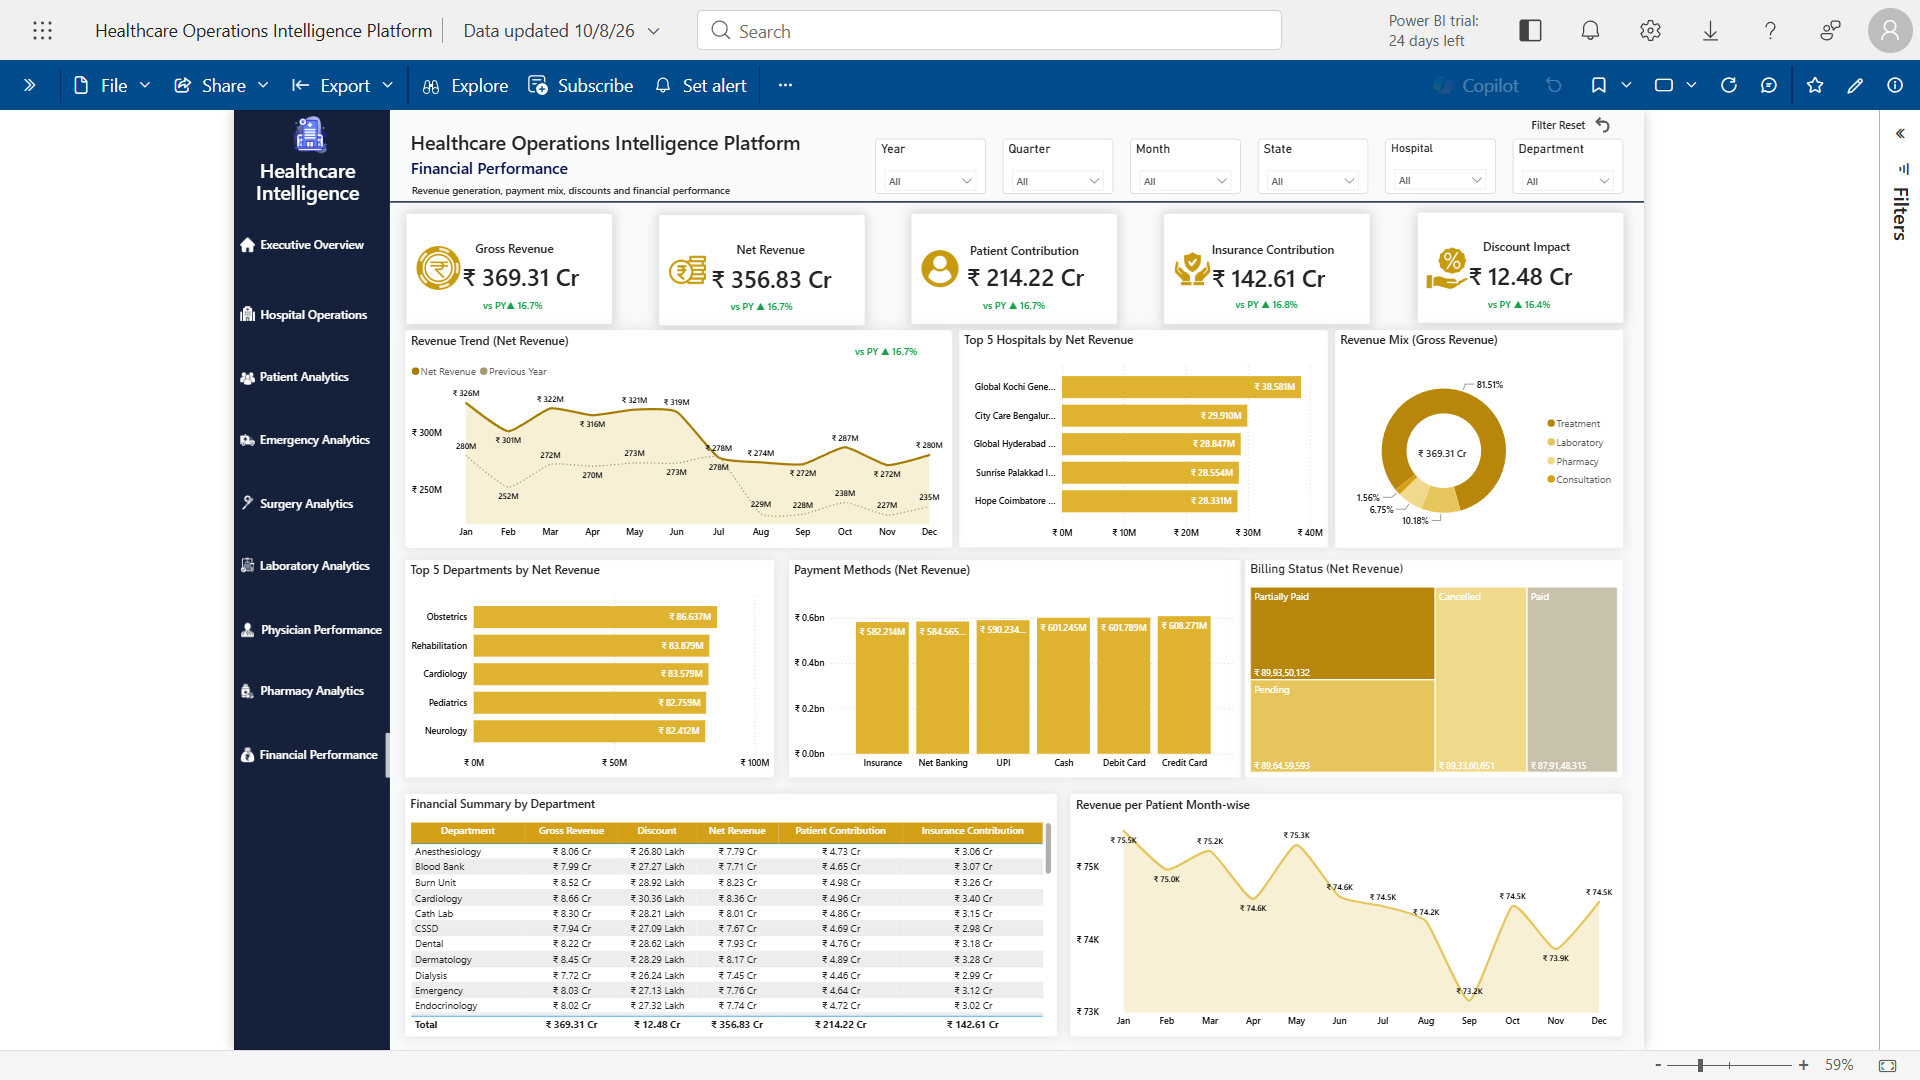

This screenshot's page, from the dashboard's own definition file:
{"tool":"powerbi","page":{"name":"Financial Performance","canvas":[1920,1280],"ordinal":8},"visuals":[{"type":"shape","box":[0,0,212,1280],"z":0},{"type":"textbox","box":[3.3,59.1,200.8,46.2],"z":0,"group":"g1"},{"type":"cardVisual","title":"Total Revenue","fields":{"Data":["_Dax.New_Discount"]},"box":[1611.3,140.2,280.3,150],"z":0,"group":"g4"},{"type":"cardVisual","title":"Total Revenue","fields":{"Data":["_Dax.Patient Contribution"]},"box":[922.9,140.6,280.3,150],"z":0,"group":"g2"},{"type":"cardVisual","title":"Total Revenue","fields":{"Data":["_Dax.New_Gross_Revenue"]},"box":[234.4,140.9,280.3,150],"z":0,"group":"g5"},{"type":"cardVisual","title":"Total Revenue","fields":{"Data":["_Dax.New_Insurance_Coverage"]},"box":[1267.1,141.2,280.3,150],"z":0,"group":"g3"},{"type":"cardVisual","title":"Total Revenue","fields":{"Data":["_Dax.New_Net_Revenue"]},"box":[578.6,142.2,280.3,150],"z":0,"group":"g6"},{"type":"donutChart","title":"Revenue Mix (Gross Revenue)","fields":{"Y":["_Dax.Total Treatment Revenue","_Dax.Total Laboratory Revenue","_Dax.Total Pharmacy Revenue","_Dax.Total Consultation Revenue"]},"box":[1499.2,300,392.3,296.9],"z":0,"group":"g8"},{"type":"lineChart","title":"Revenue Trend (Net Revenue)","fields":{"Category":["Dim_Date.MonthShort"],"Y":["_Dax.Net Amount","_Dax.Net Revenue Previous Year"]},"box":[234,300.3,744.5,296.6],"z":0,"group":"g7"},{"type":"lineChart","title":"Revenue per Patient Month-wise ","fields":{"Category":["Dim_Date.MonthShort"],"Y":["_Dax.Revenue per Patient"]},"box":[1138.5,930.3,751.6,330],"z":0,"group":"g9"},{"type":"actionButton","box":[1847.7,4.6,40,30],"z":1000},{"type":"textbox","box":[5,87.4,190.4,46.2],"z":1000,"group":"g1"},{"type":"image","box":[1280.8,180.5,50,71.5],"z":1000,"group":"g3"},{"type":"image","box":[592.3,181.5,50,71.5],"z":1000,"group":"g6"},{"type":"cardVisual","fields":{"Data":["_Dax.Gross Revenue vs PY"]},"box":[305,235.4,150,56],"z":1000,"group":"g5"},{"type":"cardVisual","fields":{"Data":["_Dax.Patient Contribution vs PY"]},"box":[987.6,235.7,150,56],"z":1000,"group":"g2"},{"type":"cardVisual","fields":{"Data":["_Dax.Discount Impact vs PY"]},"box":[1674.5,236.2,150,56],"z":1000,"group":"g4"},{"type":"cardVisual","fields":{"Data":["_Dax.Net Revenue vs PY"]},"box":[808.7,300.3,159.3,56.5],"z":1000,"group":"g7"},{"type":"cardVisual","fields":{"Data":["_Dax.New_Gross_Revenue"]},"box":[1575.7,438,138.7,56],"z":1000,"group":"g8"},{"type":"textbox","box":[212,20,586,46],"z":2000},{"type":"image","box":[1623.2,177.7,56.7,76.7],"z":2000,"group":"g4"},{"type":"image","box":[247.3,177.8,60,73.3],"z":2000,"group":"g5"},{"type":"image","box":[936.6,179.9,50,71.5],"z":2000,"group":"g2"},{"type":"cardVisual","fields":{"Data":["_Dax.Insurance Coverage vs PY"]},"box":[1331.4,234.1,150,56],"z":2000,"group":"g3"},{"type":"cardVisual","fields":{"Data":["_Dax.Net Revenue vs PY"]},"box":[643.8,237.2,150,56],"z":2000,"group":"g6"},{"type":"textbox","box":[1757.7,4.6,90,31.5],"z":3000},{"type":"textbox","box":[1669.7,171.1,180.5,36.8],"z":3000,"group":"g4"},{"type":"textbox","box":[307.4,172.3,147.4,36.8],"z":3000,"group":"g5"},{"type":"textbox","box":[634.7,173.1,191.6,42.4],"z":3000,"group":"g6"},{"type":"textbox","box":[1324.1,173.8,184.3,35.7],"z":3000,"group":"g3"},{"type":"textbox","box":[980.3,174.4,191.6,36.8],"z":3000,"group":"g2"},{"type":"textbox","box":[230,95.4,457.7,30],"z":4000},{"type":"textbox","box":[17.1,167.1,178.6,31.4],"z":5000},{"type":"textbox","box":[24.2,261.7,169.5,31.6],"z":6000},{"type":"textbox","box":[233,58.9,228.9,46.7],"z":7000},{"type":"group","id":"g1","title":"Health Care","box":[3.3,59.1,200.8,74.6],"z":8000},{"type":"image","box":[79,9.1,50,50],"z":9000},{"type":"slicer","title":"Quarter","fields":{"Values":["Dim_Date.Quarter"]},"box":[1046.4,39.3,150,75],"z":10000},{"type":"slicer","title":"Month","fields":{"Values":["Dim_Date.MonthName"]},"box":[1220.1,39.3,150,75],"z":11000},{"type":"slicer","title":"State","fields":{"Values":["Dim_Patient.State"]},"box":[1393.8,39.3,150,75],"z":12000},{"type":"slicer","title":"Hospital","fields":{"Values":["Dim_Hospital.HospitalName"]},"box":[1567.4,39.3,150,75],"z":13000},{"type":"shape","box":[212.1,119.3,1707.9,12],"z":14000},{"type":"textbox","box":[17,347.3,157.4,31.6],"z":15000},{"type":"textbox","box":[25.8,432.8,169.5,31.6],"z":16000},{"type":"textbox","box":[21,518.4,157.4,31.6],"z":17000},{"type":"textbox","box":[24,604,172.5,31.7],"z":18000},{"type":"textbox","box":[24.2,860.8,183.2,31.6],"z":19000},{"type":"textbox","box":[25,691.5,187,31.5],"z":20000},{"type":"textbox","box":[5,775.2,202.5,31.7],"z":21000},{"type":"group","id":"g2","title":"KPI 3","box":[922.9,140.6,280.3,151.1],"z":22000},{"type":"group","id":"g3","title":"KPI 4","box":[1267.1,141.2,280.3,150],"z":23000},{"type":"group","id":"g4","title":"KPI 5","box":[1611.3,140.2,280.3,152],"z":24000},{"type":"shape","box":[206,847.5,7.3,61.8],"z":25000},{"type":"image","box":[8.5,173,20,20],"z":26000},{"type":"image","box":[8.5,267.5,20,20],"z":27000},{"type":"image","box":[8.5,355,20,20],"z":28000},{"type":"image","box":[8.5,438,20,20],"z":29000},{"type":"image","box":[8.5,524,20,20],"z":30000},{"type":"image","box":[8,610,20,20],"z":31000},{"type":"image","box":[8,697.5,20,20],"z":32000},{"type":"image","box":[8,781,20,20],"z":33000},{"type":"image","box":[8,868,20,20],"z":34000},{"type":"slicer","title":"Department","fields":{"Values":["Dim_Department.DepartmentName"]},"box":[1741.1,39,150,75.6],"z":35000},{"type":"slicer","title":"Year","fields":{"Values":["Dim_Date.Year"]},"box":[872.7,39.3,150,75],"z":36000},{"type":"group","id":"g5","title":"KPI 3","box":[234.4,140.9,280.3,150.5],"z":37000},{"type":"group","id":"g6","title":"KPI 4","box":[578.6,142.2,280.3,151],"z":38000},{"type":"barChart","title":"Top 5 Hospitals by Net Revenue","fields":{"Category":["Dim_Hospital.HospitalName"],"Y":["_Dax.Net Amount"]},"box":[987.5,300.3,502.5,296.2],"z":39000},{"type":"barChart","title":"Top 5 Departments by Net Revenue","fields":{"Category":["Dim_Department.DepartmentName"],"Y":["_Dax.Net Amount"]},"box":[232.5,612.5,502.5,296.2],"z":40000},{"type":"group","id":"g7","title":"Trend chart","box":[234,300.3,744.5,296.6],"z":41000},{"type":"group","id":"g8","title":"Gross Chart","box":[1499.2,300,392.3,296.9],"z":42000},{"type":"columnChart","title":"Payment Methods (Net Revenue)","fields":{"Category":["Fact_Billing.PaymentMethod"],"Y":["_Dax.Net Amount"]},"box":[755,612.5,615,296.2],"z":43000},{"type":"treemap","title":"Billing Status (Net Revenue)","fields":{"Group":["Fact_Billing.BillingStatus"],"Values":["_Dax.Net Amount"]},"box":[1377.3,612.7,513.6,296.4],"z":44000},{"type":"tableEx","title":"Financial Summary by Department","fields":{"Values":["Dim_Department.DepartmentName","_Dax.New_Gross_Revenue","_Dax.New_Discount","_Dax.New_Net_Revenue","_Dax.Patient Contribution","_Dax.Insurance Contribution"]},"box":[233.9,930.3,887.2,330.7],"z":45000},{"type":"group","id":"g9","title":"Trend chart","box":[1138.5,930.3,751.6,329.8],"z":46000}]}

Visuals, with their boxes on the page's 1920x1280 design canvas (x1, y1, x2, y2). These are canvas units, not pixel positions in the 1920x1080 screenshot, which may show the page scaled, cropped or inside an application window:
shape: l=0, t=0, r=212, b=1280
textbox: l=3, t=59, r=204, b=105
"Total Revenue" cardVisual: l=1611, t=140, r=1892, b=290
"Total Revenue" cardVisual: l=923, t=141, r=1203, b=291
"Total Revenue" cardVisual: l=234, t=141, r=515, b=291
"Total Revenue" cardVisual: l=1267, t=141, r=1547, b=291
"Total Revenue" cardVisual: l=579, t=142, r=859, b=292
"Revenue Mix (Gross Revenue)" donutChart: l=1499, t=300, r=1892, b=597
"Revenue Trend (Net Revenue)" lineChart: l=234, t=300, r=978, b=597
"Revenue per Patient Month-wise " lineChart: l=1138, t=930, r=1890, b=1260
actionButton: l=1848, t=5, r=1888, b=35
textbox: l=5, t=87, r=195, b=134
image: l=1281, t=180, r=1331, b=252
image: l=592, t=182, r=642, b=253
cardVisual - _Dax.Gross Revenue vs PY: l=305, t=235, r=455, b=291
cardVisual - _Dax.Patient Contribution vs PY: l=988, t=236, r=1138, b=292
cardVisual - _Dax.Discount Impact vs PY: l=1674, t=236, r=1824, b=292
cardVisual - _Dax.Net Revenue vs PY: l=809, t=300, r=968, b=357
cardVisual - _Dax.New_Gross_Revenue: l=1576, t=438, r=1714, b=494
textbox: l=212, t=20, r=798, b=66
image: l=1623, t=178, r=1680, b=254
image: l=247, t=178, r=307, b=251
image: l=937, t=180, r=987, b=251
cardVisual - _Dax.Insurance Coverage vs PY: l=1331, t=234, r=1481, b=290
cardVisual - _Dax.Net Revenue vs PY: l=644, t=237, r=794, b=293
textbox: l=1758, t=5, r=1848, b=36
textbox: l=1670, t=171, r=1850, b=208
textbox: l=307, t=172, r=455, b=209
textbox: l=635, t=173, r=826, b=216
textbox: l=1324, t=174, r=1508, b=210
textbox: l=980, t=174, r=1172, b=211
textbox: l=230, t=95, r=688, b=125
textbox: l=17, t=167, r=196, b=198
textbox: l=24, t=262, r=194, b=293
textbox: l=233, t=59, r=462, b=106
"Health Care" group: l=3, t=59, r=204, b=134
image: l=79, t=9, r=129, b=59
"Quarter" slicer: l=1046, t=39, r=1196, b=114
"Month" slicer: l=1220, t=39, r=1370, b=114
"State" slicer: l=1394, t=39, r=1544, b=114
"Hospital" slicer: l=1567, t=39, r=1717, b=114
shape: l=212, t=119, r=1920, b=131
textbox: l=17, t=347, r=174, b=379
textbox: l=26, t=433, r=195, b=464
textbox: l=21, t=518, r=178, b=550
textbox: l=24, t=604, r=196, b=636
textbox: l=24, t=861, r=207, b=892
textbox: l=25, t=692, r=212, b=723
textbox: l=5, t=775, r=208, b=807
"KPI 3" group: l=923, t=141, r=1203, b=292
"KPI 4" group: l=1267, t=141, r=1547, b=291
"KPI 5" group: l=1611, t=140, r=1892, b=292
shape: l=206, t=848, r=213, b=909
image: l=8, t=173, r=28, b=193
image: l=8, t=268, r=28, b=288
image: l=8, t=355, r=28, b=375
image: l=8, t=438, r=28, b=458
image: l=8, t=524, r=28, b=544
image: l=8, t=610, r=28, b=630
image: l=8, t=698, r=28, b=718
image: l=8, t=781, r=28, b=801
image: l=8, t=868, r=28, b=888
"Department" slicer: l=1741, t=39, r=1891, b=115
"Year" slicer: l=873, t=39, r=1023, b=114
"KPI 3" group: l=234, t=141, r=515, b=291
"KPI 4" group: l=579, t=142, r=859, b=293
"Top 5 Hospitals by Net Revenue" barChart: l=988, t=300, r=1490, b=596
"Top 5 Departments by Net Revenue" barChart: l=232, t=612, r=735, b=909
"Trend chart" group: l=234, t=300, r=978, b=597
"Gross Chart" group: l=1499, t=300, r=1892, b=597
"Payment Methods (Net Revenue)" columnChart: l=755, t=612, r=1370, b=909
"Billing Status (Net Revenue)" treemap: l=1377, t=613, r=1891, b=909
"Financial Summary by Department" tableEx: l=234, t=930, r=1121, b=1261
"Trend chart" group: l=1138, t=930, r=1890, b=1260
